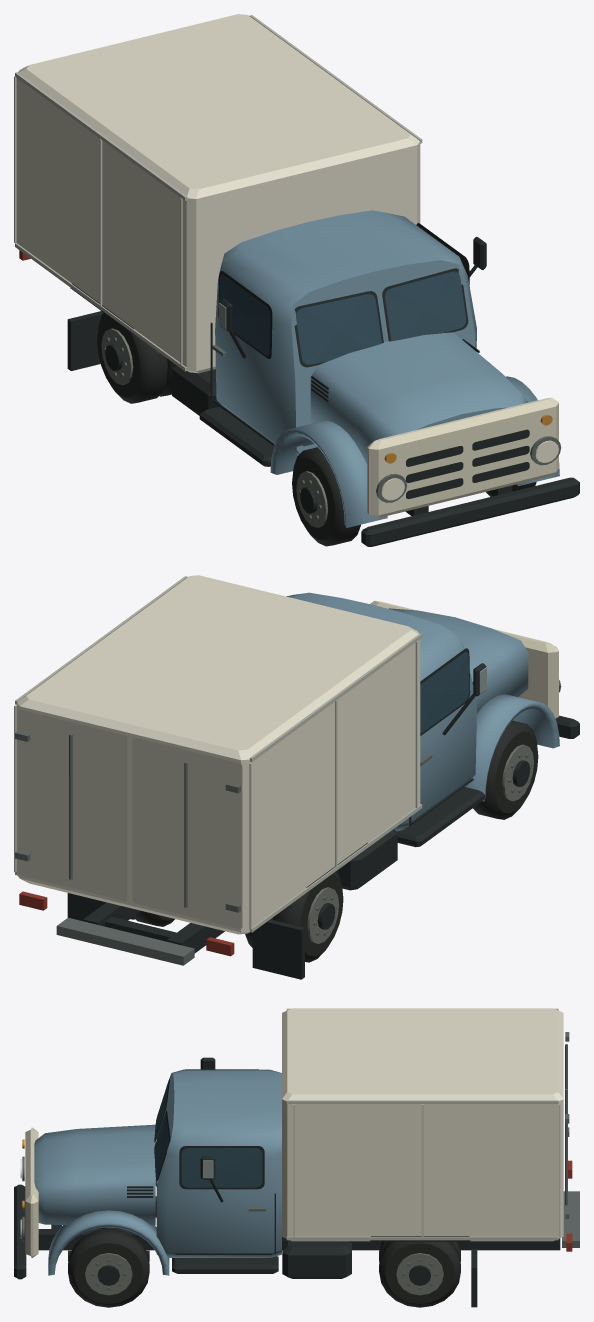
The model's file is truck_zil_food.glb.
3 renders of one model, top to bottom at view 1: azimuth 30°, elevation 25°; view 2: azimuth 150°, elevation 25°; view 3: azimuth 270°, elevation 25°, orthographic. The views are drawn at different scales.
Visible parts, largest first — view 1: ZIL_Food; view 2: ZIL_Food; view 3: ZIL_Food.
Boxes of the visible parts, left/top/right/bottom form: ZIL_Food: left=14, top=14, right=579, bottom=546; ZIL_Food: left=14, top=575, right=579, bottom=979; ZIL_Food: left=14, top=1008, right=579, bottom=1307.
Size of the model in its own units: 3.05 by 3.05 by 7.16.
